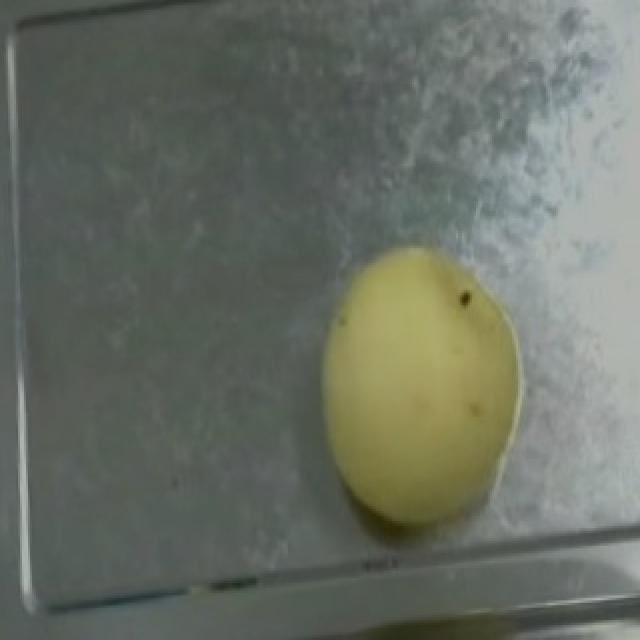Fruit: (294, 224, 540, 538)
